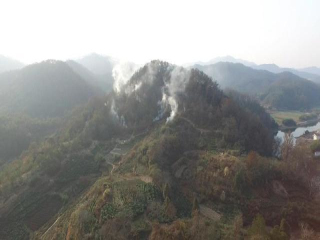smoke: (105, 55, 195, 129)
